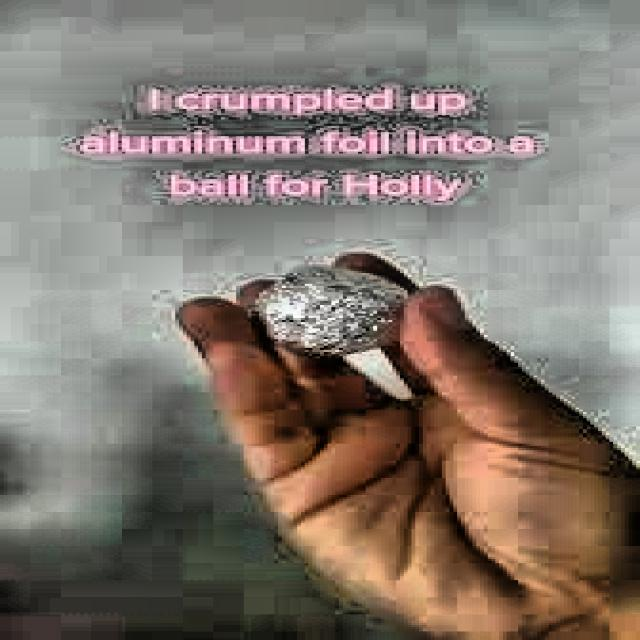Foil: (247, 262, 419, 367)
